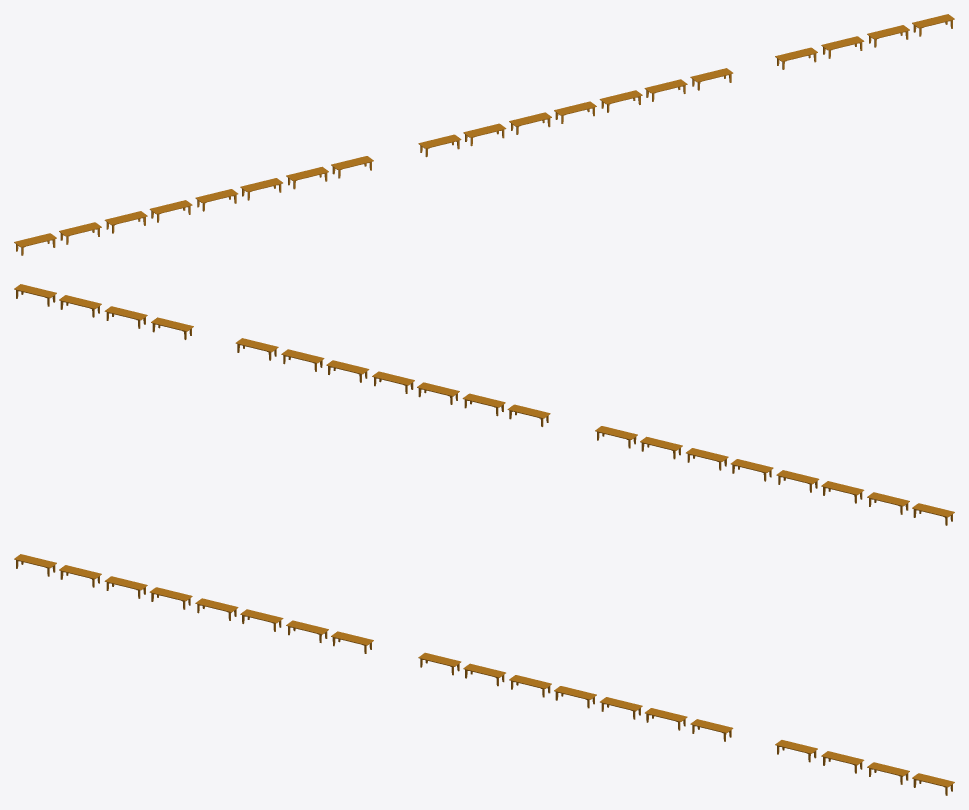
The model's file is boothWest.glb.
3 views of the same model, one above another, from view 1: azimuth 30°, elevation 25°; view 2: azimuth 150°, elevation 25°; view 3: azimuth 330°, elevation 25° (orthographic).
Parts seen in each view (by area): view 1: old_table.014; view 2: old_table.014; view 3: old_table.014.
Part boxes in pixels (box(x1,y1,x2,y2)): old_table.014: box(14, 14, 954, 255); old_table.014: box(14, 284, 954, 525); old_table.014: box(14, 554, 954, 795).
Size of the model in its own units: 59.41 by 0.5846 by 0.7613.
